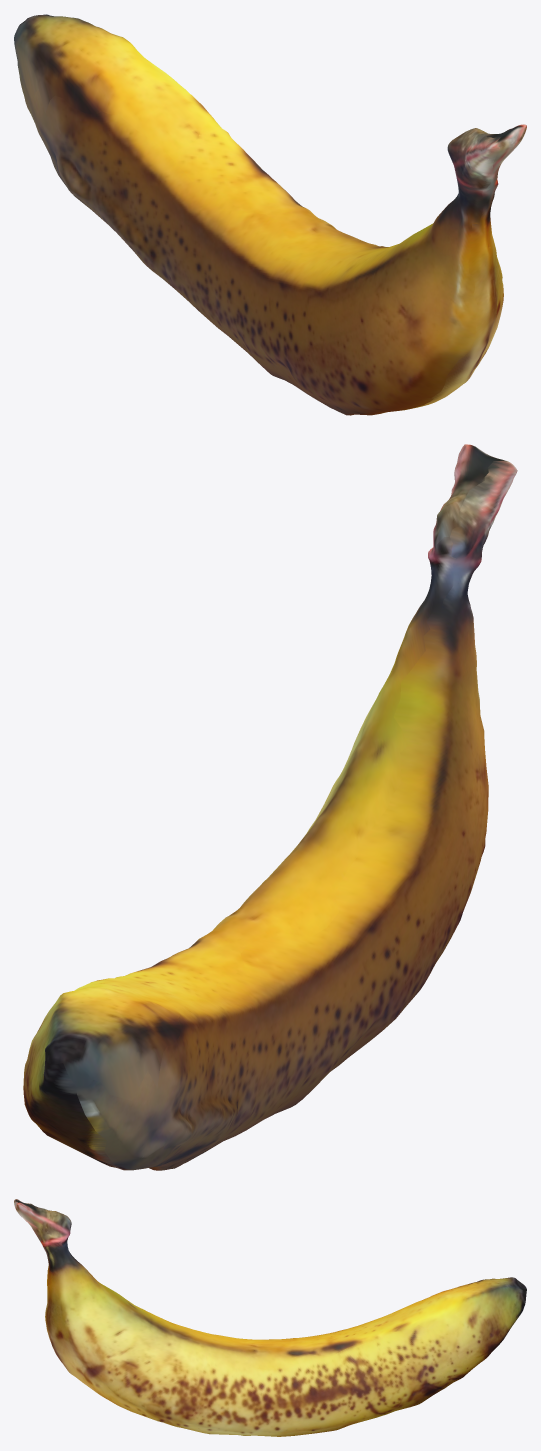
File: Banana.glb
3 views of the same model, one above another, from view 1: azimuth 30°, elevation 25°; view 2: azimuth 150°, elevation 25°; view 3: azimuth 270°, elevation 25° (orthographic). The views are drawn at different scales.
Parts seen in each view (by area): view 1: Object_2; view 2: Object_2; view 3: Object_2.
Boxes of the visible parts, bbox=[...] form: Object_2: bbox=[14, 14, 526, 415]; Object_2: bbox=[23, 444, 517, 1170]; Object_2: bbox=[14, 1199, 526, 1436].
Bounding box in the file's own units: 0.793 × 1.95 × 3.79.
Materials: 1 (1 with a texture image).
